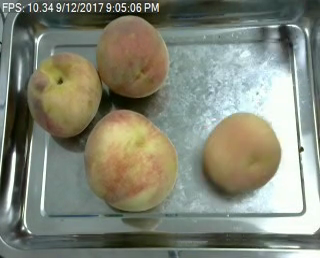Peach: (83, 109, 177, 213), (26, 52, 101, 137), (202, 114, 281, 191), (96, 15, 170, 96)
